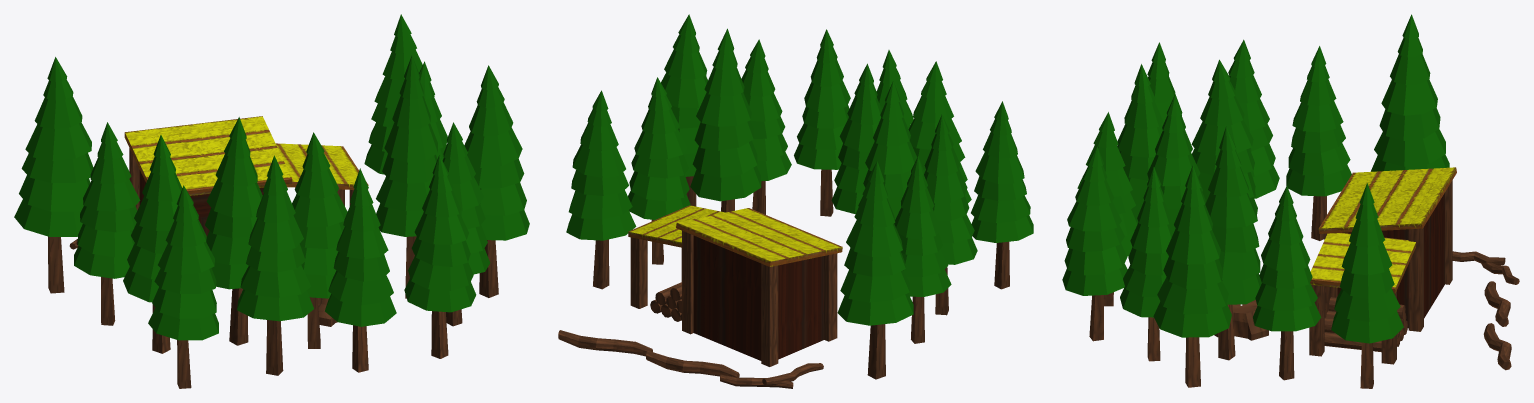
The model's file is ForestExploited.fbx.
3 renders of one model, left to right at view 1: azimuth 30°, elevation 25°; view 2: azimuth 150°, elevation 25°; view 3: azimuth 270°, elevation 25°, orthographic. The views are drawn at different scales.
Visible parts, largest first — view 1: Feuillage.023, Feuillage.006, Feuillage.022, Feuillage, Feuillage.020, Feuillage.005, Feuillage.002, Cube.007, Feuillage.019, Feuillage.007, Feuillage.003, Feuillage.018 (+14 smaller); view 2: Cube.006, Feuillage.005, Feuillage.023, Feuillage.024, Feuillage.012, Feuillage.022, Cube.007, Feuillage, Feuillage.019, Feuillage.018, Feuillage.003, Feuillage.020 (+18 smaller); view 3: Feuillage.020, Feuillage.023, Feuillage.024, Feuillage, Feuillage.019, Feuillage.005, Feuillage.012, Cube.007, Feuillage.004, Feuillage.007, Feuillage.006, Feuillage.018 (+21 smaller).
Boxes of the visible parts, left/top/right/bottom form: Feuillage.023: left=14, top=57, right=93, bottom=236; Feuillage.006: left=237, top=155, right=313, bottom=321; Feuillage.022: left=148, top=185, right=218, bottom=340; Feuillage: left=404, top=154, right=476, bottom=312; Feuillage.020: left=464, top=65, right=529, bottom=240; Feuillage.005: left=376, top=55, right=437, bottom=236; Feuillage.002: left=325, top=168, right=396, bottom=326; Cube.007: left=124, top=116, right=292, bottom=195; Feuillage.019: left=74, top=122, right=140, bottom=278; Feuillage.007: left=205, top=117, right=262, bottom=289; Feuillage.003: left=292, top=132, right=347, bottom=298; Feuillage.018: left=123, top=135, right=182, bottom=302; Cube.006: left=693, top=235, right=823, bottom=360; Feuillage.005: left=690, top=28, right=761, bottom=201; Feuillage.023: left=837, top=161, right=913, bottom=325; Feuillage.024: left=566, top=90, right=636, bottom=240; Feuillage.012: left=628, top=77, right=690, bottom=219; Feuillage.022: left=971, top=101, right=1033, bottom=242; Cube.007: left=676, top=208, right=842, bottom=266; Feuillage: left=794, top=29, right=850, bottom=169; Feuillage.019: left=894, top=156, right=951, bottom=296; Feuillage.018: left=924, top=114, right=977, bottom=264; Feuillage.003: left=831, top=63, right=881, bottom=213; Feuillage.020: left=661, top=14, right=707, bottom=176; Feuillage.020: left=1153, top=165, right=1231, bottom=337; Feuillage.023: left=1371, top=14, right=1449, bottom=171; Feuillage.024: left=1331, top=183, right=1403, bottom=343; Feuillage: left=1062, top=146, right=1127, bottom=295; Feuillage.019: left=1286, top=46, right=1351, bottom=196; Feuillage.005: left=1205, top=126, right=1261, bottom=304; Feuillage.012: left=1253, top=186, right=1321, bottom=331; Cube.007: left=1318, top=167, right=1456, bottom=233; Feuillage.004: left=1120, top=167, right=1173, bottom=317; Feuillage.007: left=1191, top=59, right=1257, bottom=214; Feuillage.006: left=1117, top=64, right=1163, bottom=223; Feuillage.018: left=1228, top=39, right=1279, bottom=198.
Size of the model in its own units: 985 by 587 by 1042.
5 materials, 3 textured.
